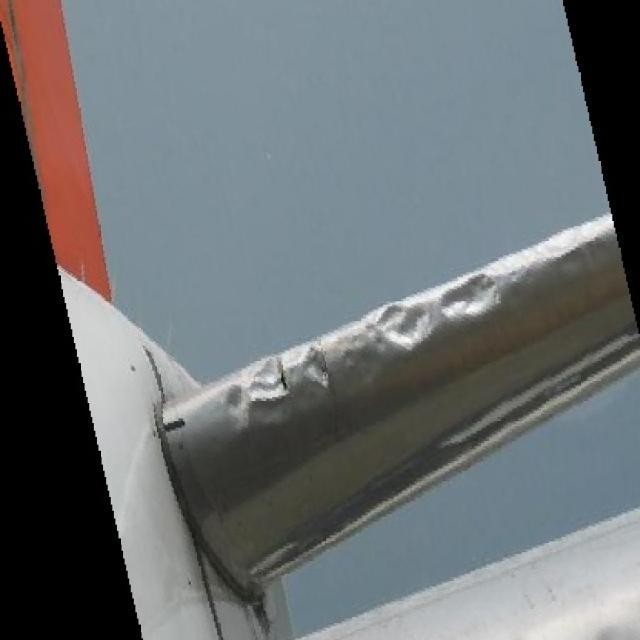dent: (435, 273, 503, 324), (373, 303, 435, 351), (255, 366, 297, 408), (301, 347, 338, 392), (223, 381, 254, 426)
